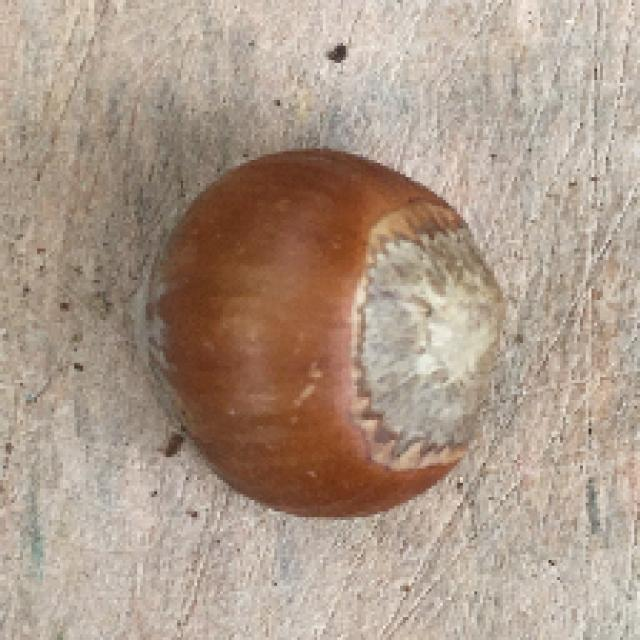damagedHazelnut: (129, 141, 509, 522)
